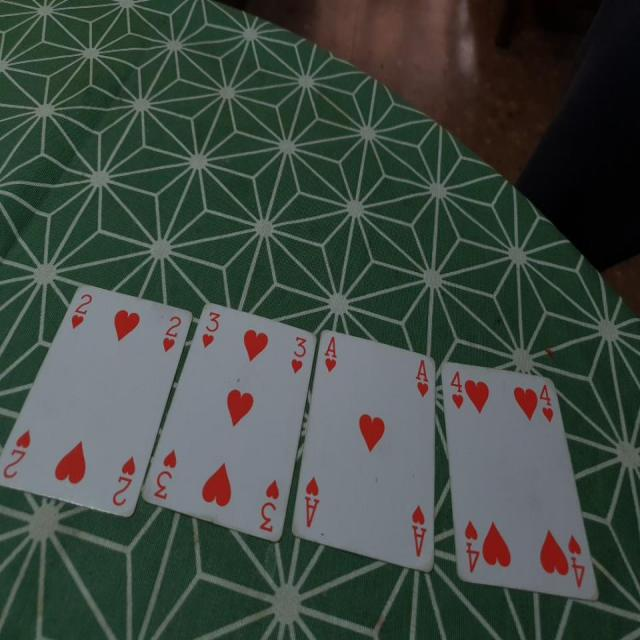2 Hearts: (1, 284, 199, 524)
3 Hearts: (137, 298, 320, 548)
4 Hearts: (438, 355, 603, 609)
A Hearts: (293, 317, 449, 578)
